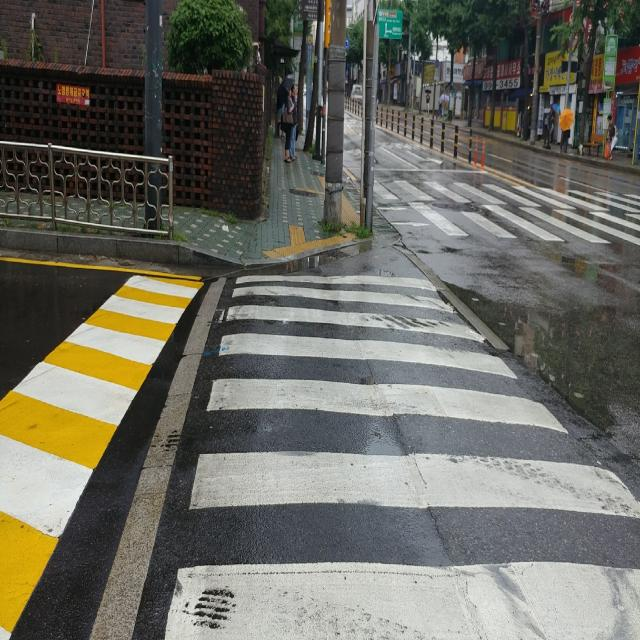횡단보도: (163, 274, 640, 640), (378, 166, 640, 250)
